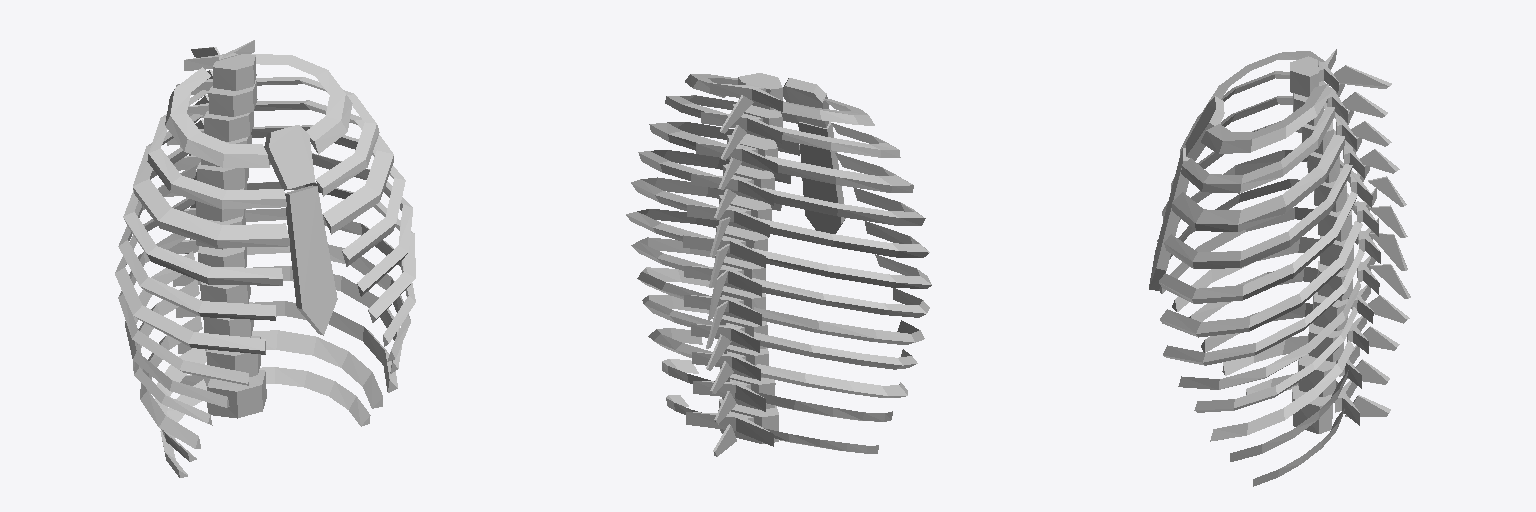
Rendered from thorax.obj.
3 views of the same model, side by side, from view 1: azimuth 30°, elevation 25°; view 2: azimuth 150°, elevation 25°; view 3: azimuth 270°, elevation 25° (orthographic).
Visible parts, largest first — view 1: THORAX01_THORAX01_WHITE_BONE; view 2: THORAX01_THORAX01_WHITE_BONE; view 3: THORAX01_THORAX01_WHITE_BONE.
Boxes of the visible parts, x1,y1,x2,y2 form: THORAX01_THORAX01_WHITE_BONE: [115, 40, 415, 477]; THORAX01_THORAX01_WHITE_BONE: [626, 73, 931, 456]; THORAX01_THORAX01_WHITE_BONE: [1149, 49, 1410, 486].
Size of the model in its own units: 12.58 by 15.69 by 9.96.